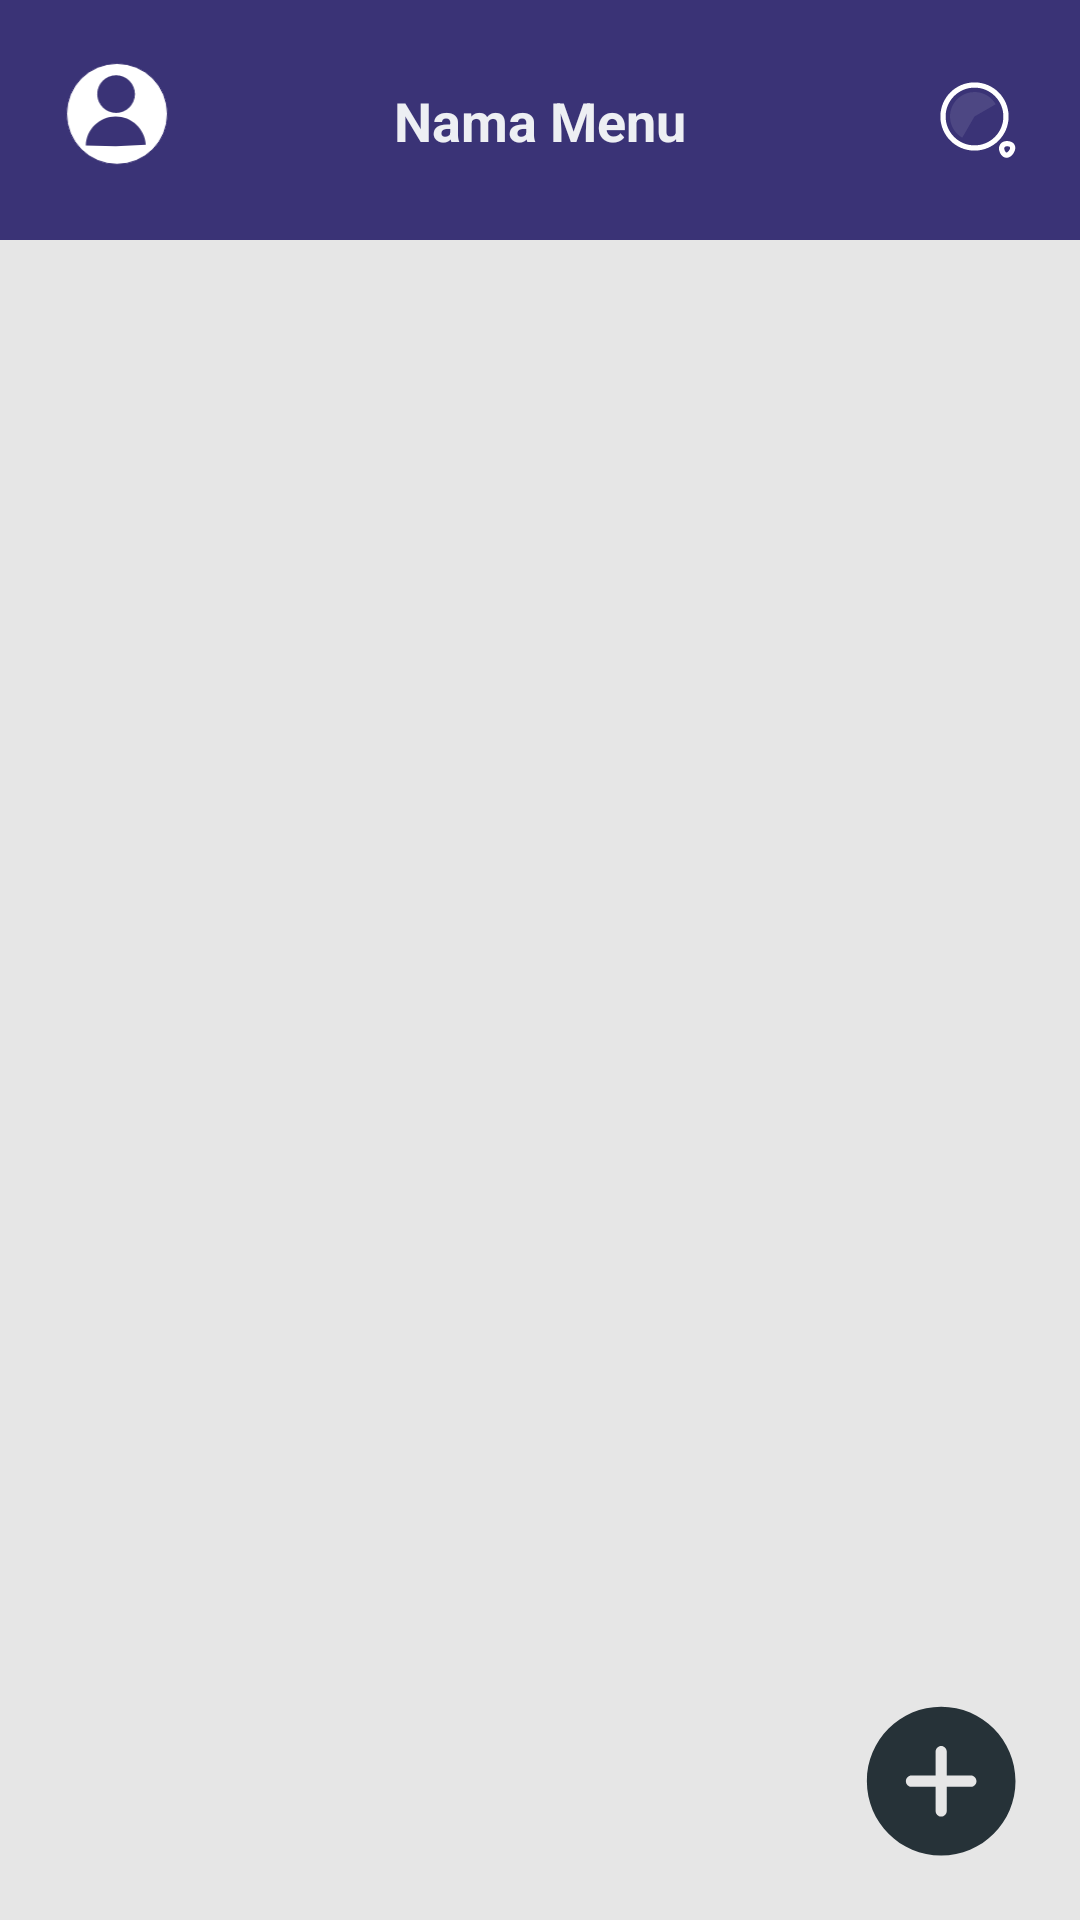

Screen size 1080px×1920px. Icon name, then its center in pixels as [x,y]:
add: [941,1781]
profile pict: [117,114]
search: [978,120]
